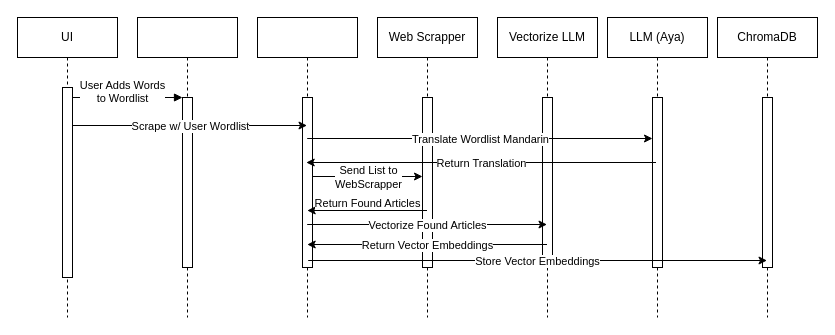
The diagram is 835 pixels wide and 335 high, and some of its shapes have lost their labels. The box of each missing label's shape, as (x1, y1, x2, y2) in pixels:
Python Backend: (256, 16, 358, 318)
Word Storage: (136, 16, 238, 318)
